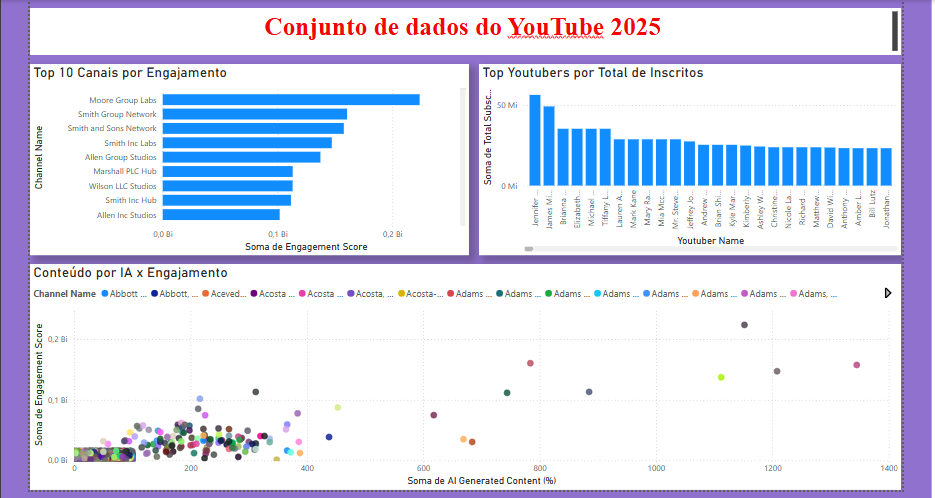

This screenshot's page, from the dashboard's own definition file:
{"tool":"powerbi","page":{"name":"Dashboard","canvas":[1280,720],"ordinal":0},"visuals":[{"type":"barChart","title":"Top 10 Canais por Engajamento","fields":{"Category":["dim_canal.Channel Name"],"Y":["fato_canal_youtube.Engagement Score"]},"box":[0,94,645.1,280.7],"z":0},{"type":"columnChart","title":"Top Youtubers por Total de Inscritos","fields":{"Category":["dim_youtuber.Youtuber Name"],"Y":["fato_canal_youtube.Total Subscribers"]},"box":[659.8,94,620.1,280.7],"z":1000},{"type":"scatterChart","title":"Conteúdo por IA x Engajamento","fields":{"X":["fato_canal_youtube.AI Generated Content (%)"],"Y":["fato_canal_youtube.Engagement Score"],"Series":["fato_canal_youtube.Channel Name"]},"box":[0,387.9,1279.8,332.1],"z":2000},{"type":"textbox","box":[0,11.8,1279.8,69.1],"z":3000}]}

Visuals, with their boxes in screenshot pixels (x1, y1, x2, y2):
"Top 10 Canais por Engajamento" barChart: left=24, top=62, right=465, bottom=254
"Top Youtubers por Total de Inscritos" columnChart: left=475, top=62, right=899, bottom=254
"Conteúdo por IA x Engajamento" scatterChart: left=24, top=263, right=899, bottom=490
textbox: left=24, top=6, right=899, bottom=53
